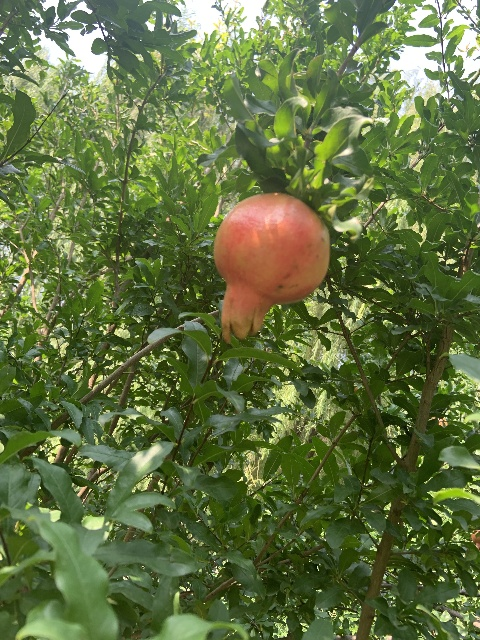ripe: (212, 193, 330, 342)
